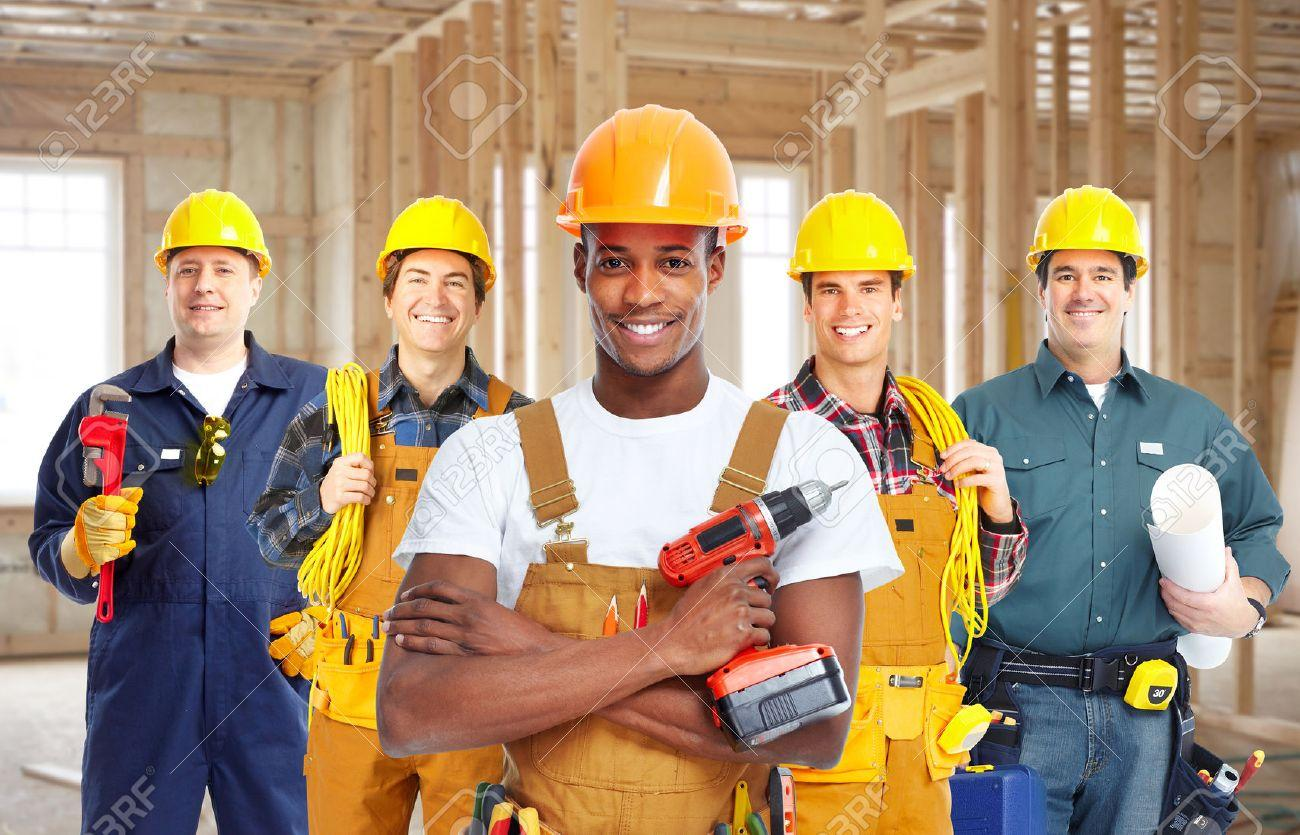helmet: (556, 103, 755, 243), (786, 188, 918, 283), (1025, 185, 1153, 281), (378, 195, 500, 290), (151, 188, 273, 280)
